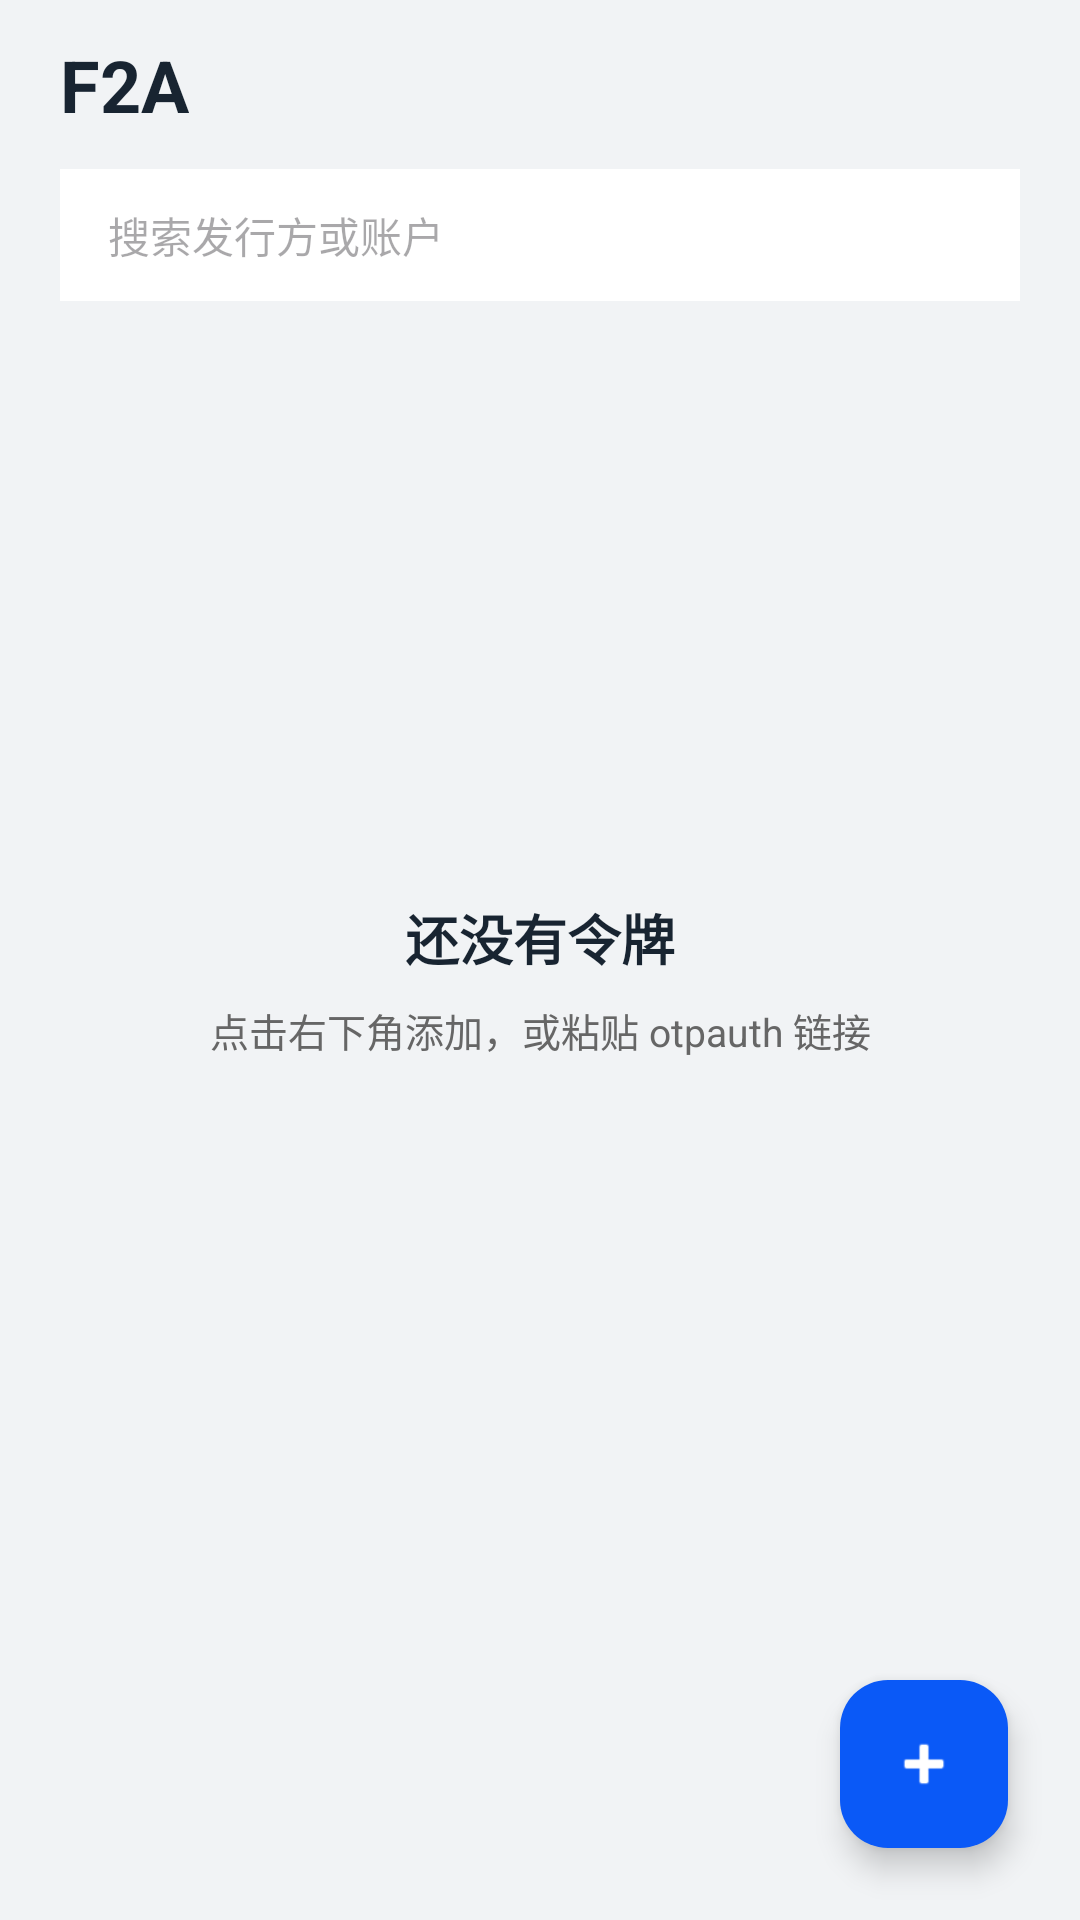

Screen size 1080 × 1920. Icon name, then its center in pixels as point (x, y):
添加: point (924, 1764)
